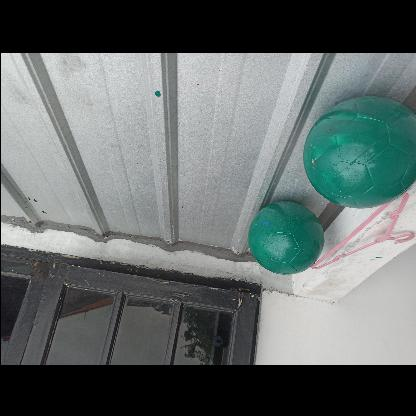green_ball: (302, 88, 416, 210), (247, 202, 321, 276)
